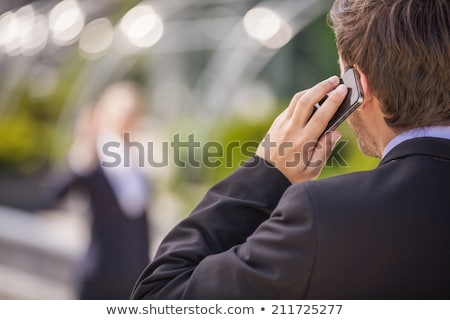phone: (288, 66, 365, 142)
